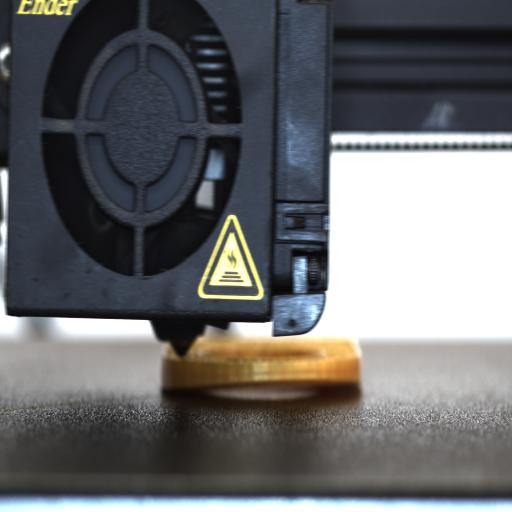warp: (163, 372, 355, 402)
